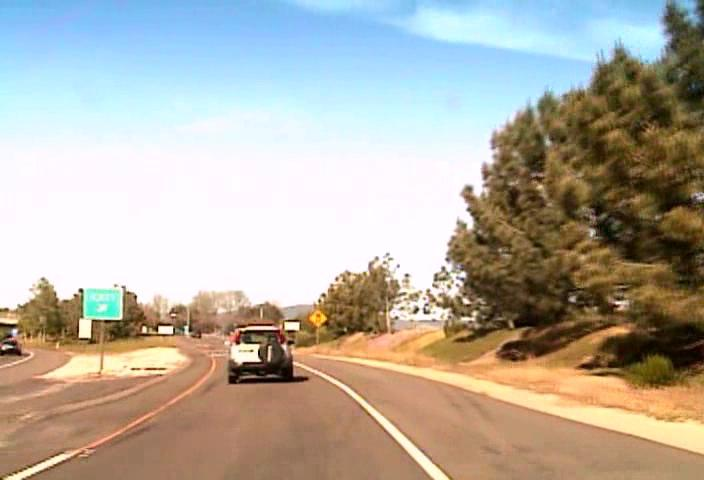signalAhead: (308, 309, 327, 327)
